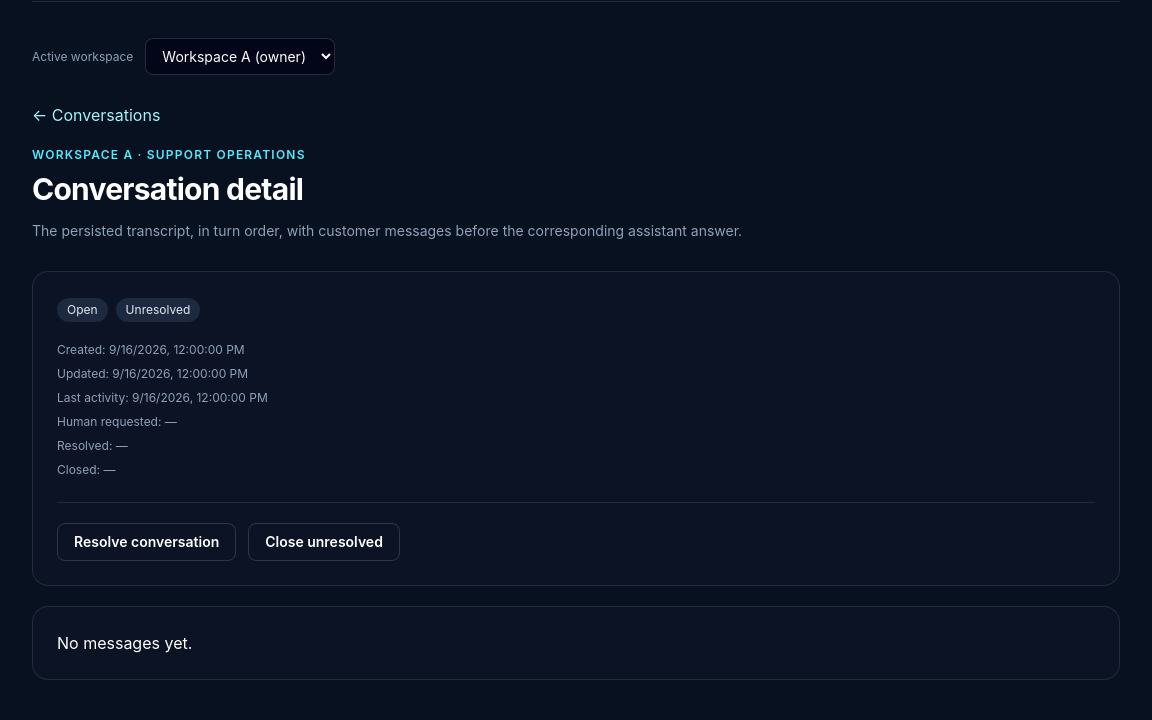
Test: explicit conversation lifecycle › allows confirmation cancellation without a mutation
(page scrolled)
Click the button "Resolve conversation": click(147, 542) [57, 523, 236, 561]
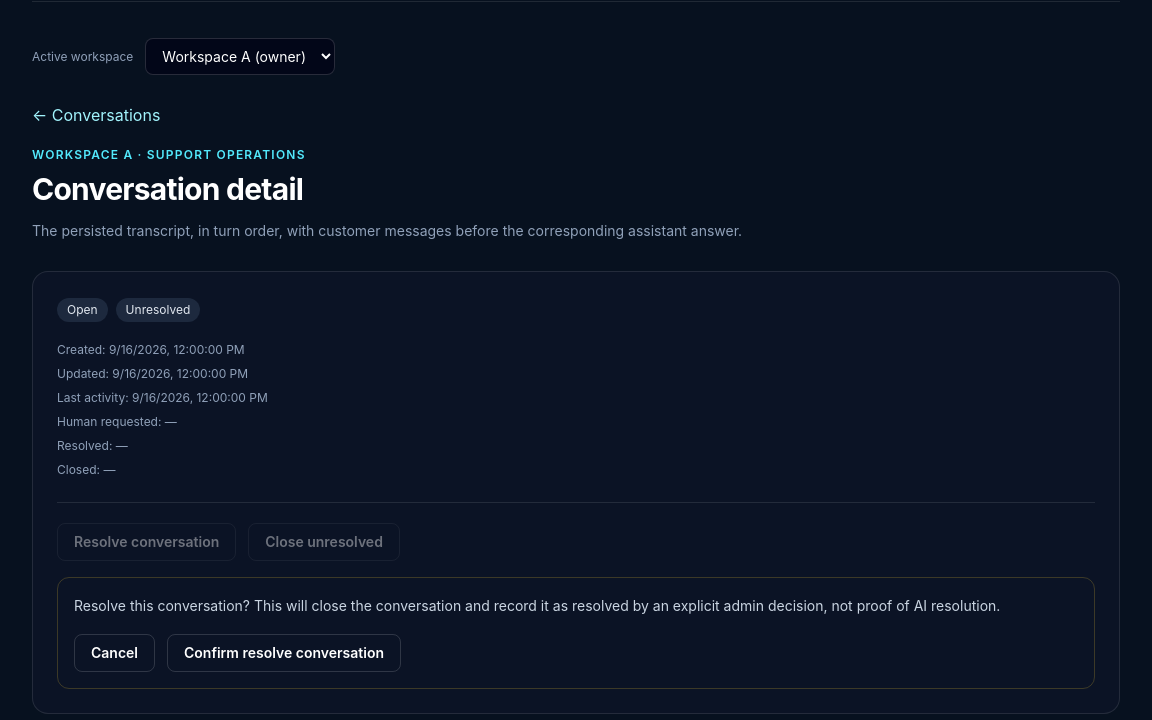
expect the dialog shows "explicit admin decision": met, box [74, 597, 1000, 614]
Click the button "Cancel": click(114, 653) [74, 634, 155, 672]
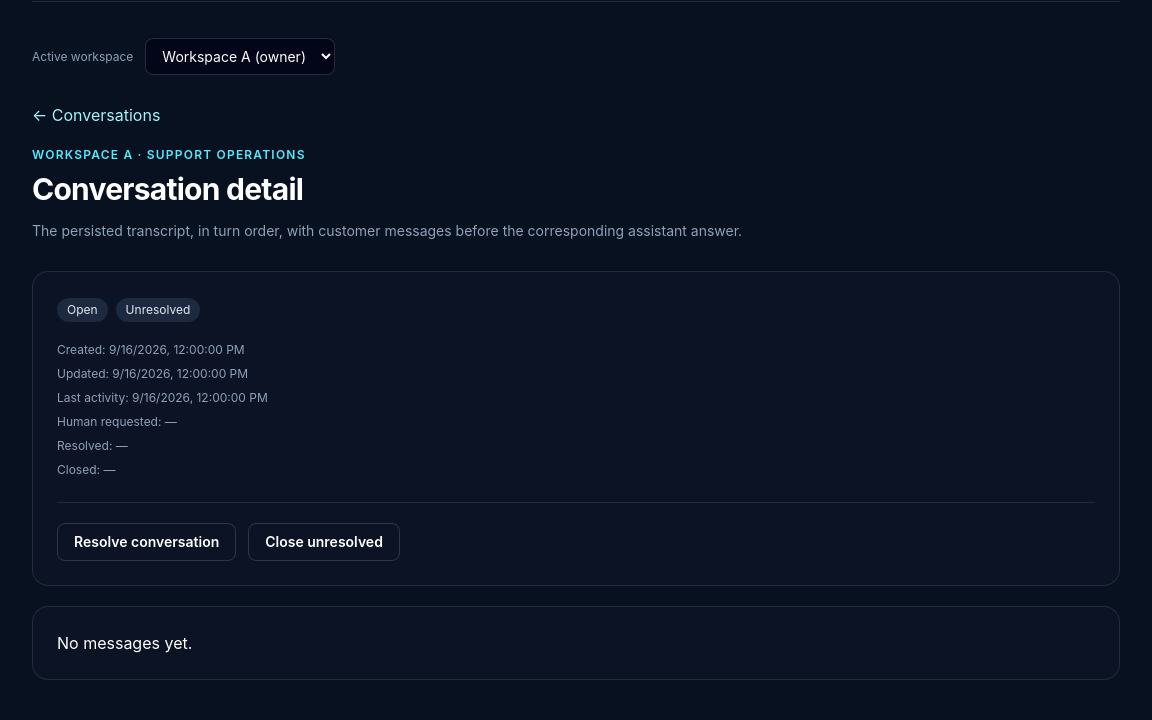
expect the dialog is gone: met
